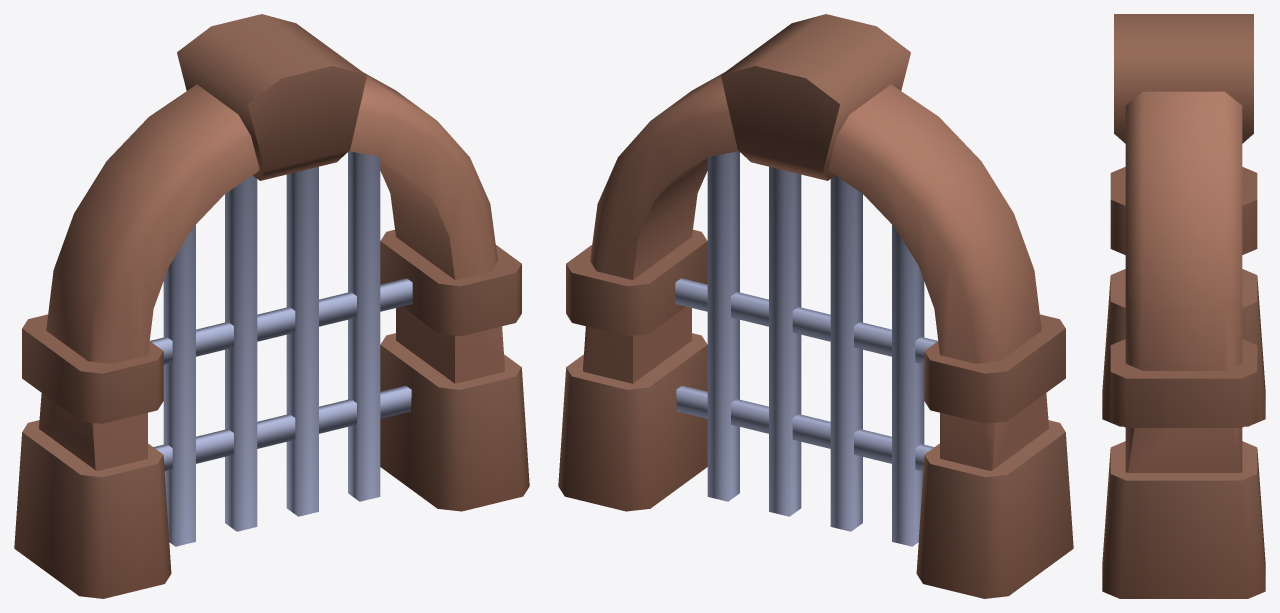
The model's file is gate-metal-bars.glb.
3 renders of one model, left to right at view 1: azimuth 30°, elevation 25°; view 2: azimuth 150°, elevation 25°; view 3: azimuth 270°, elevation 25°, orthographic.
Visible parts, largest first — view 1: gate-metal-bars, gate; view 2: gate-metal-bars, gate; view 3: gate-metal-bars.
Boxes of the visible parts, left/top/right/bottom form: gate-metal-bars: left=14, top=14, right=529, bottom=598; gate: left=150, top=151, right=412, bottom=546; gate-metal-bars: left=558, top=14, right=1073, bottom=598; gate: left=675, top=151, right=937, bottom=546; gate-metal-bars: left=1102, top=14, right=1265, bottom=598.
Bounding box in the file's own units: 4.4 × 4.4 × 1.4.
1 material, 1 textured.
